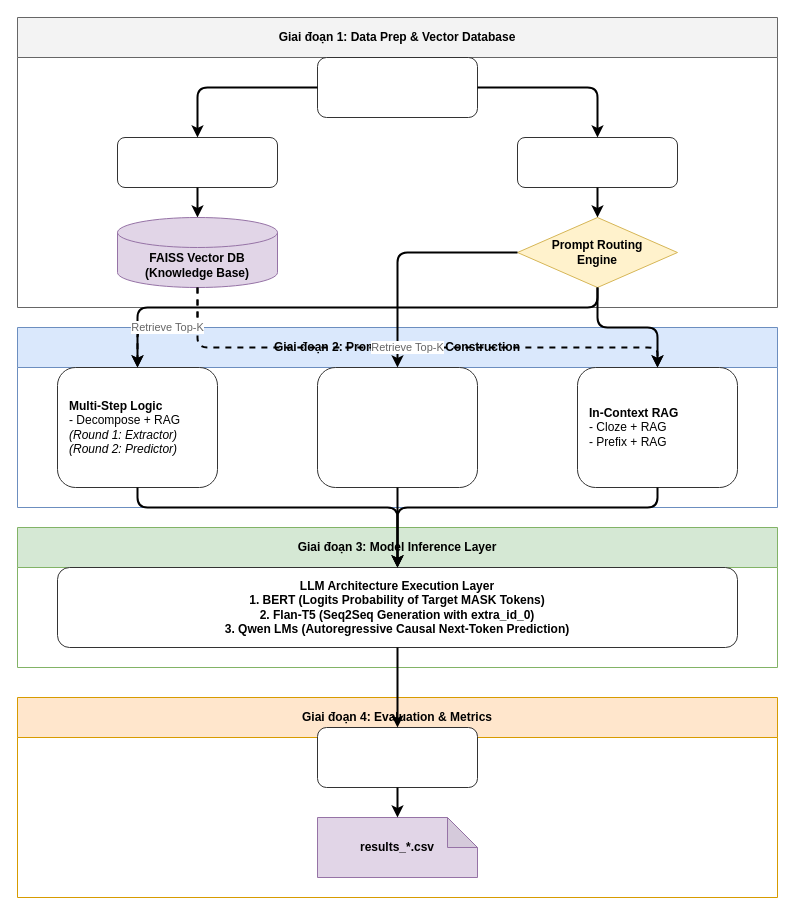
This 795x915 diagram has some shape labels left out. The centre of each missing label's shape, as x and y in pixels:
"Matching & Regex Evaluator (Score Truth/False)" goes at point 397,757.
"Mã hóa Tập Train (all-MiniLM-L6-v2)" goes at point 197,162.
"No-RAG Templates - Cloze Simple - PET-Style - Prefix Zero-shot - Prefix + CoT" goes at point 397,427.
"Trích xuất Dữ liệu Gốc (IMDB, FinQA, RTE, COPA)" goes at point 397,87.
"Tách Tập Test/Validation (Eval_Data)" goes at point 597,162.
